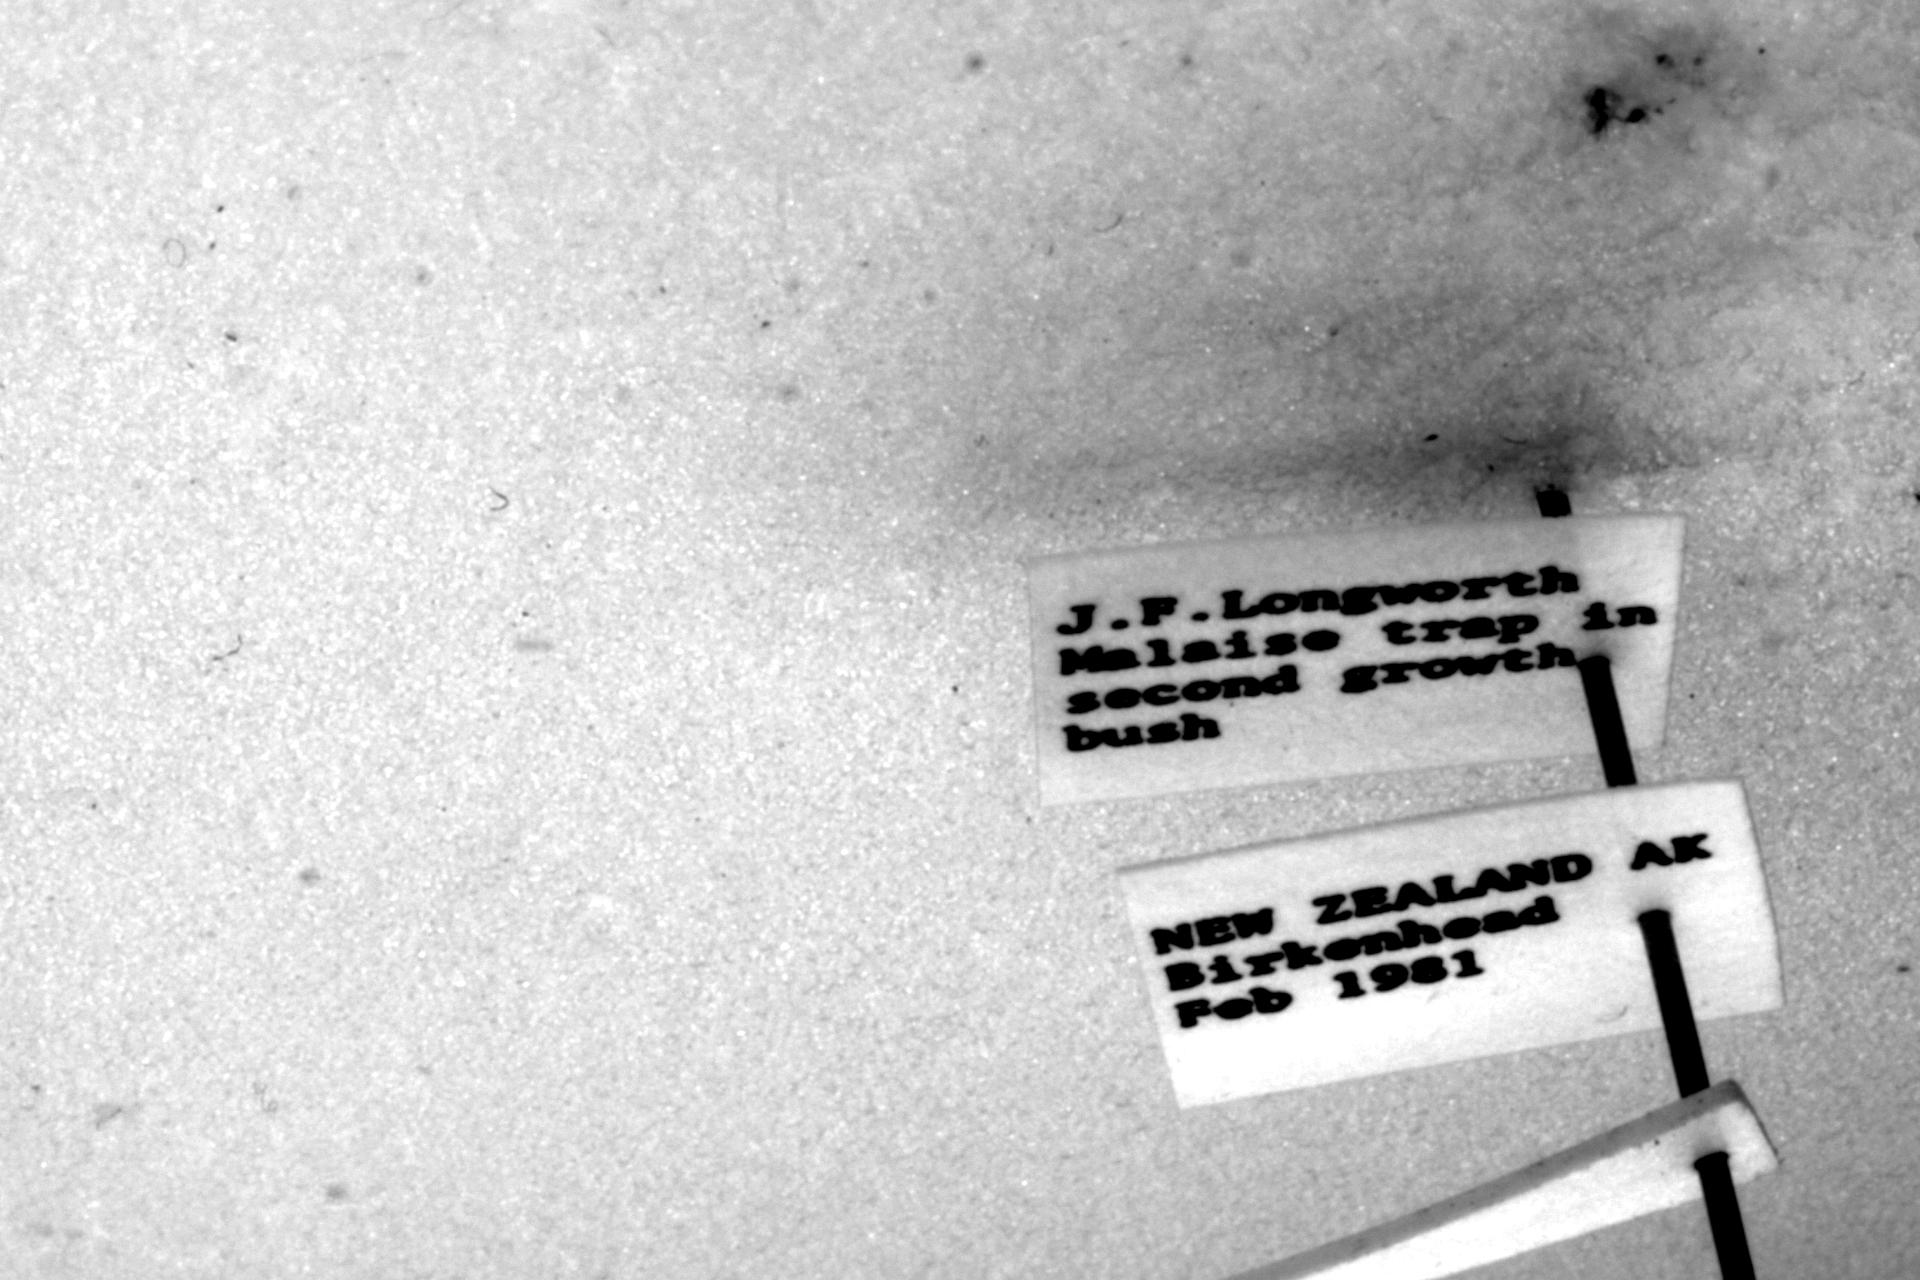typed_label: (1121, 780, 1781, 1106), (1031, 517, 1684, 803)
